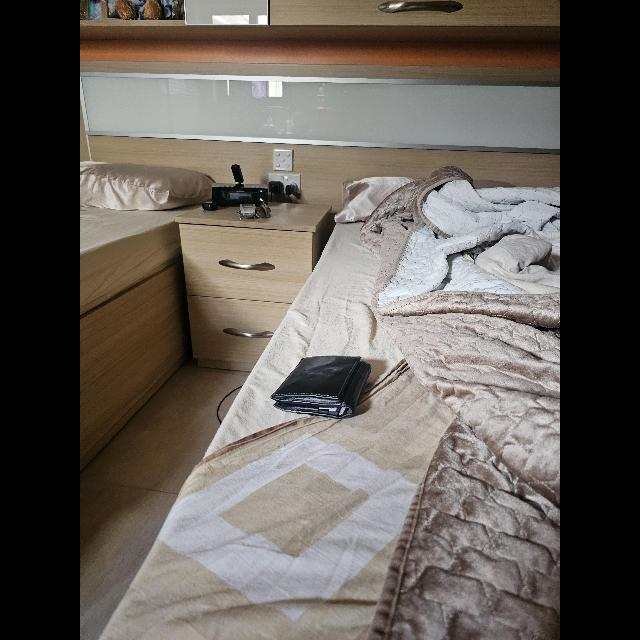Wallet: (270, 355, 372, 419)
